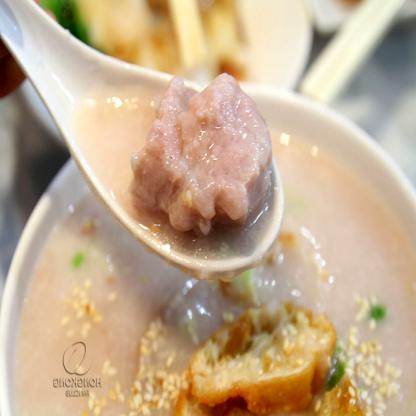Joke: (0, 103, 412, 415)
